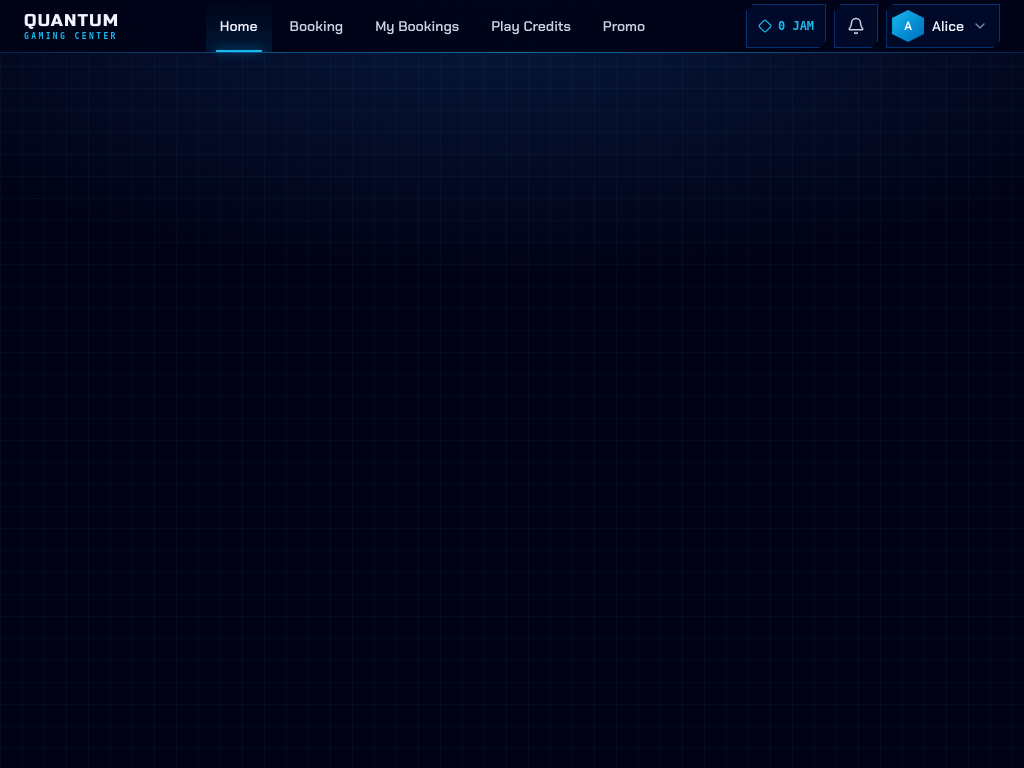
CustomerNavbar › logged-in user gets labelled icon buttons with aria-expanded
This screenshot has width=1024, height=768.
Click the button named "Notifikasi" at (856, 26), box x1=834 y1=4 x2=878 y2=48
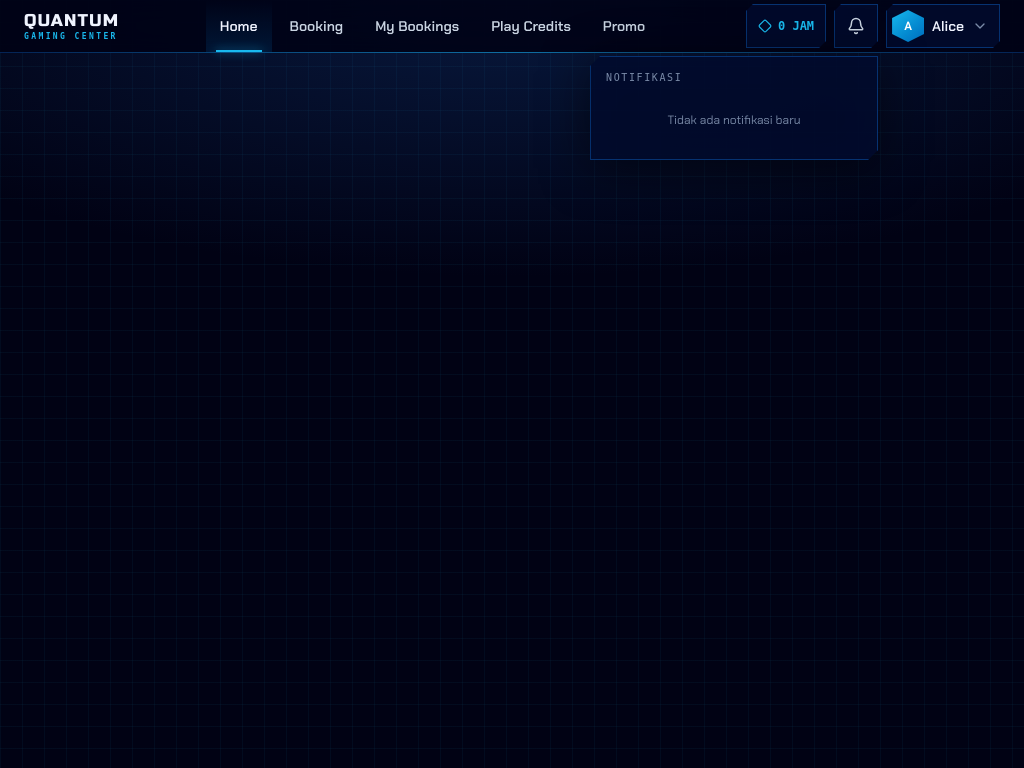
Now the text "Tidak ada notifikasi baru" is shown, box x1=668 y1=112 x2=800 y2=128
